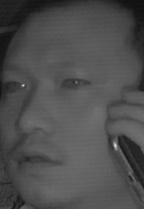eye: (59, 73, 92, 94), (1, 77, 28, 95)
mouth: (15, 141, 66, 174)
